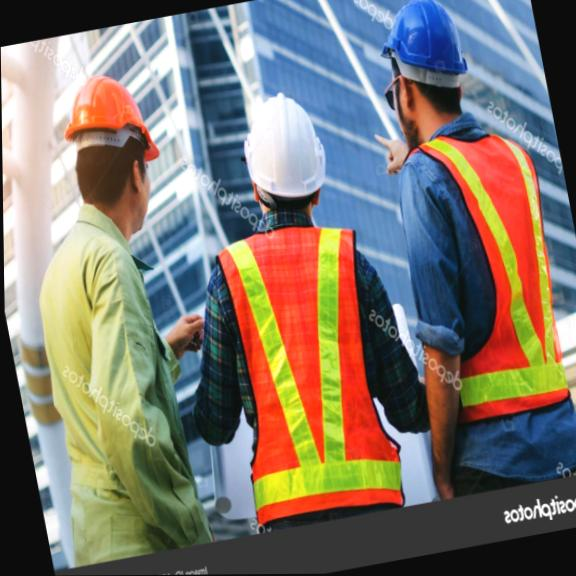no_safety_vest: (10, 229, 195, 551)
safety_vest: (199, 206, 419, 532), (389, 116, 576, 425)
